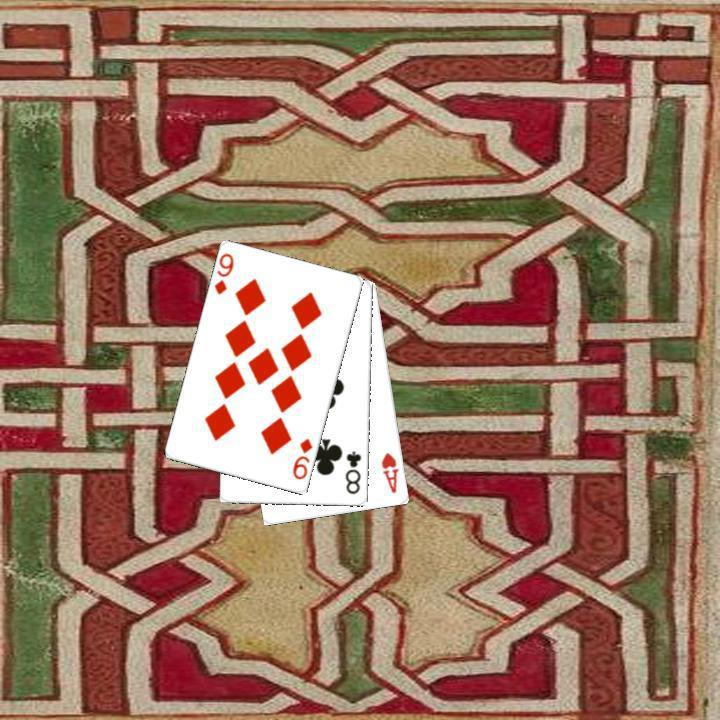8: (341, 447, 364, 496)
9: (288, 434, 315, 482), (210, 249, 236, 297)
A: (377, 448, 401, 495)
